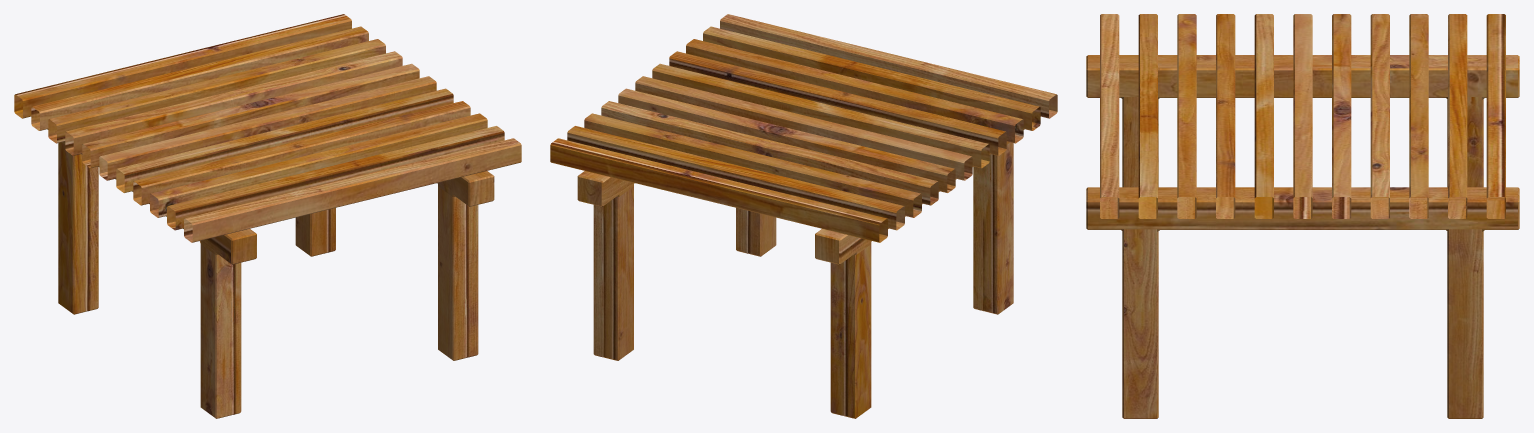
The model's file is supports.fbx.
3 renders of one model, left to right at view 1: azimuth 30°, elevation 25°; view 2: azimuth 150°, elevation 25°; view 3: azimuth 270°, elevation 25°, orthographic. The views are drawn at different scales.
Parts seen in each view (by area): view 1: Support_LOD0; view 2: Support_LOD0; view 3: Support_LOD0.
Part boxes in pixels (x1,y1,x2,y2): Support_LOD0: [14, 14, 521, 418]; Support_LOD0: [550, 14, 1057, 418]; Support_LOD0: [1086, 14, 1519, 418].
Size of what is drawn, in the model's own units: 5 by 3.06 by 5.
